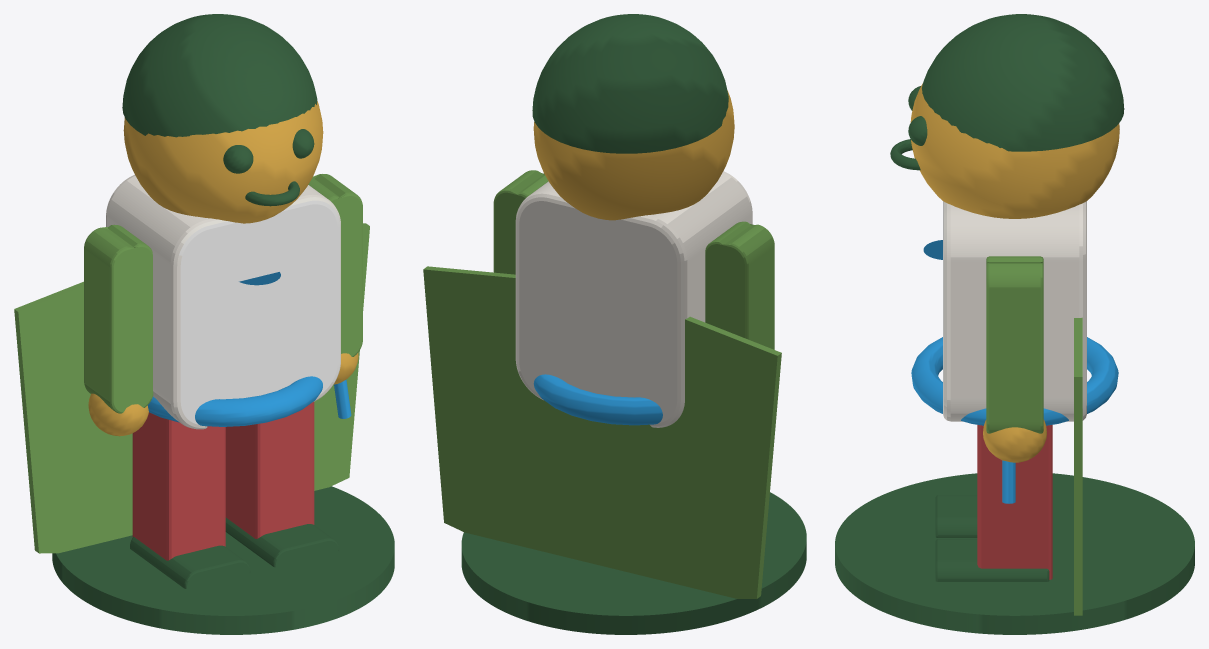
Rendered from 1320_中国古代寓言_飞卫.glb.
3 renders of one model, left to right at view 1: azimuth 30°, elevation 25°; view 2: azimuth 150°, elevation 25°; view 3: azimuth 270°, elevation 25°, orthographic.
Visible parts, largest first — view 1: card_1320; view 2: card_1320; view 3: card_1320.
Part boxes in pixels (bbox=[...]): card_1320: bbox=[14, 14, 394, 634]; card_1320: bbox=[423, 14, 806, 634]; card_1320: bbox=[835, 14, 1194, 634].
Bounding box in the file's own units: 0.6739 × 1 × 0.5914.
